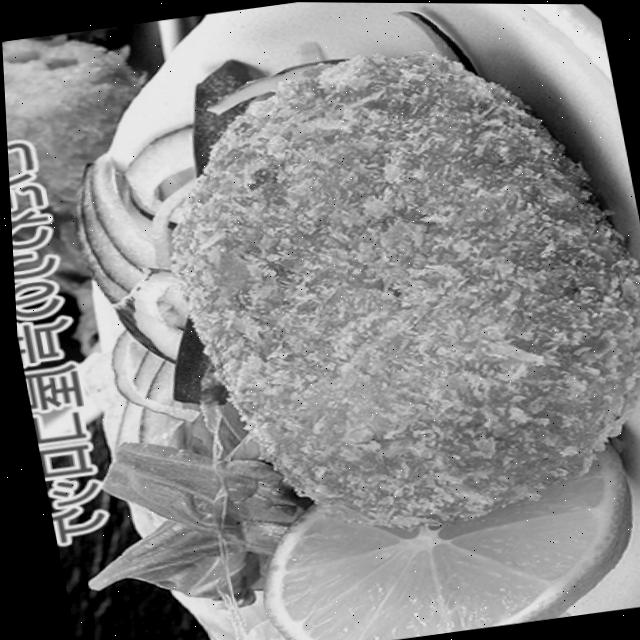炸货点心: (129, 12, 640, 559)
